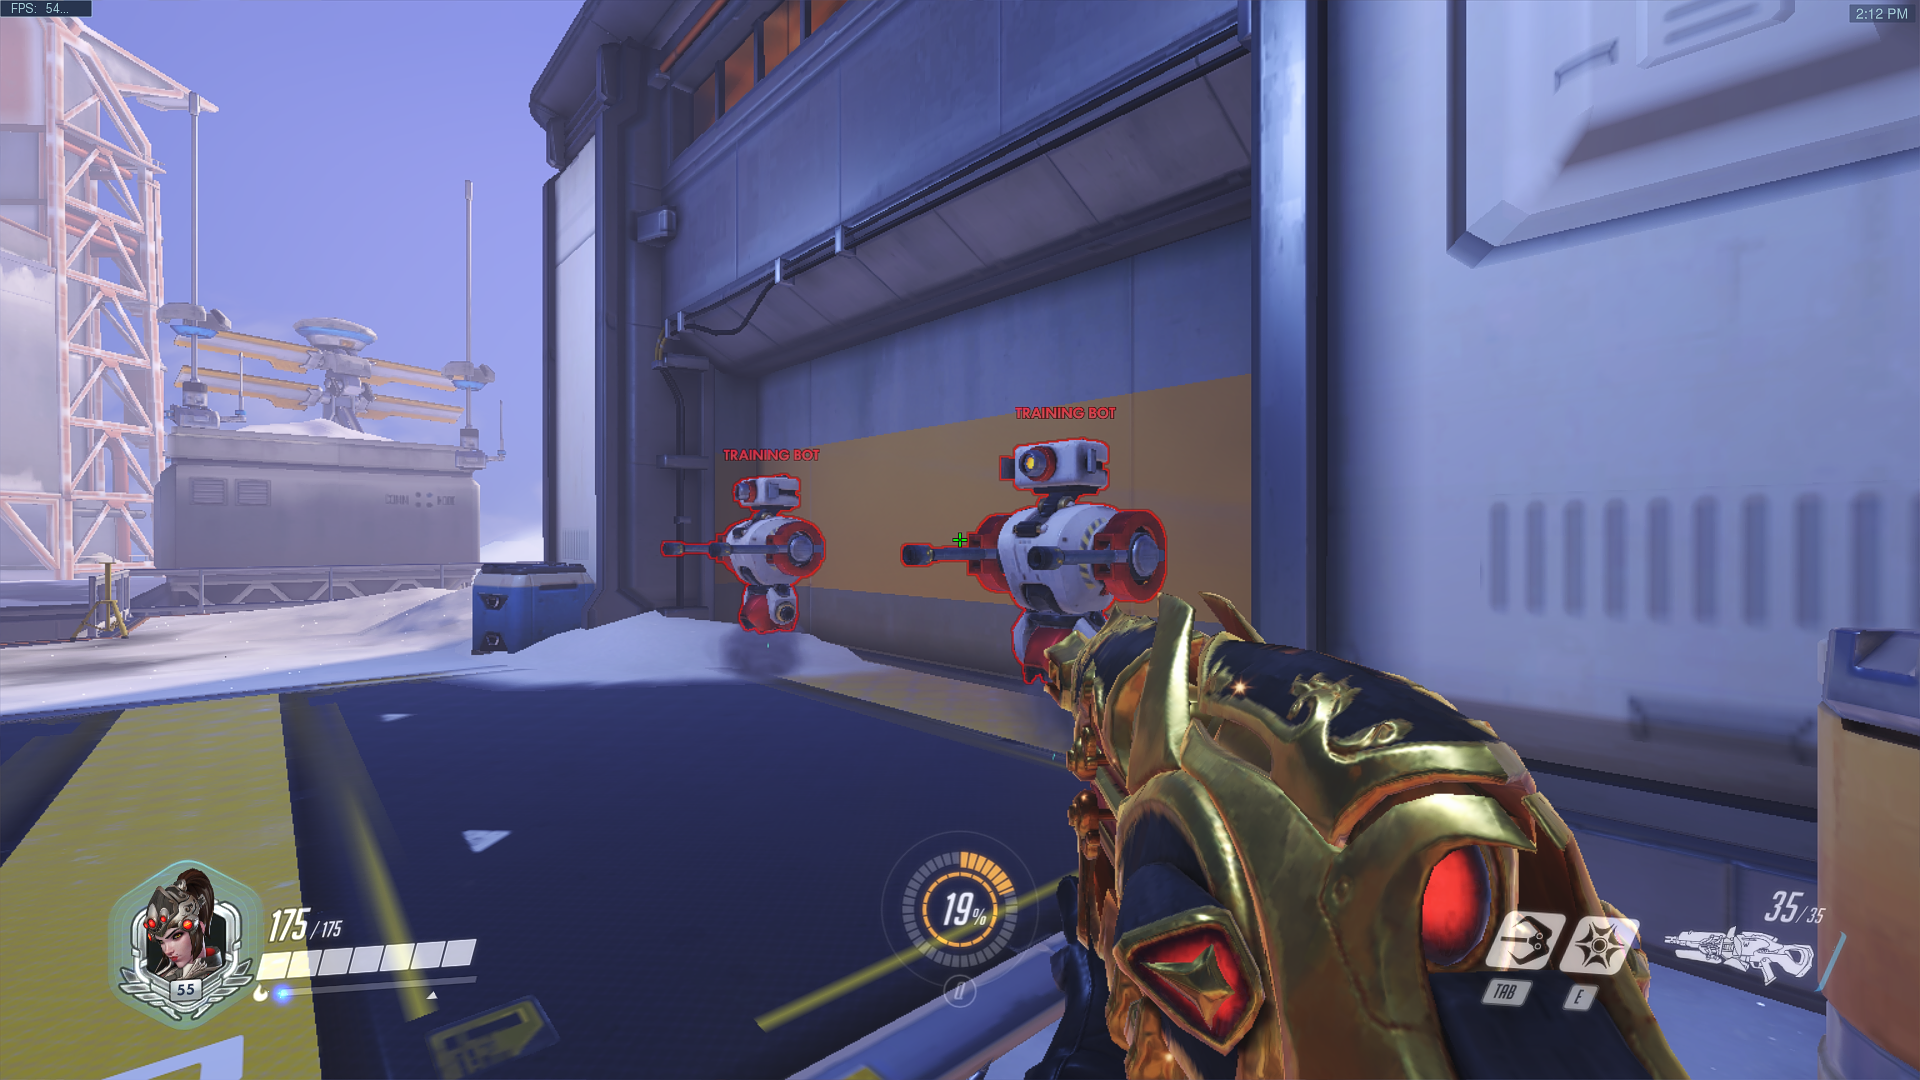head: (1001, 431, 1122, 496), (726, 471, 813, 511)
